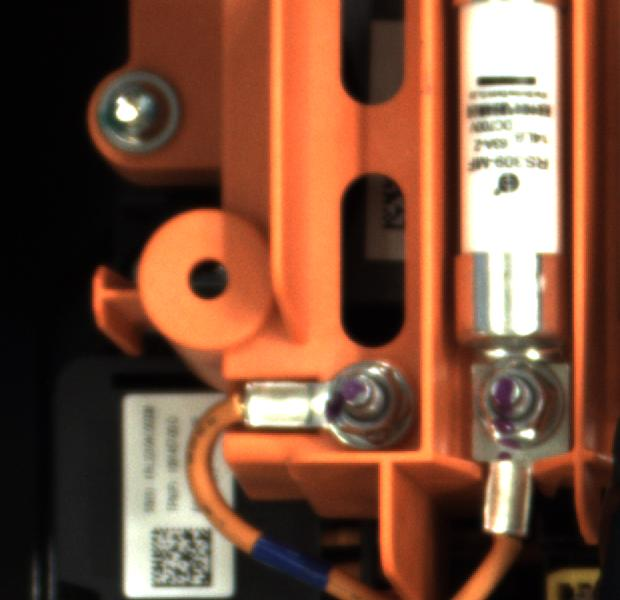screw_m: (85, 67, 193, 162)
screw_s: (309, 356, 416, 445), (474, 358, 570, 446)
